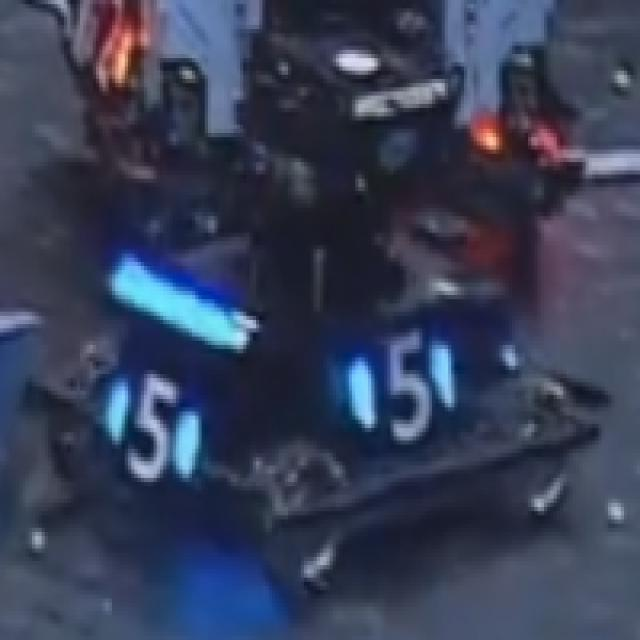B5: (348, 328, 458, 436), (106, 362, 195, 482)
